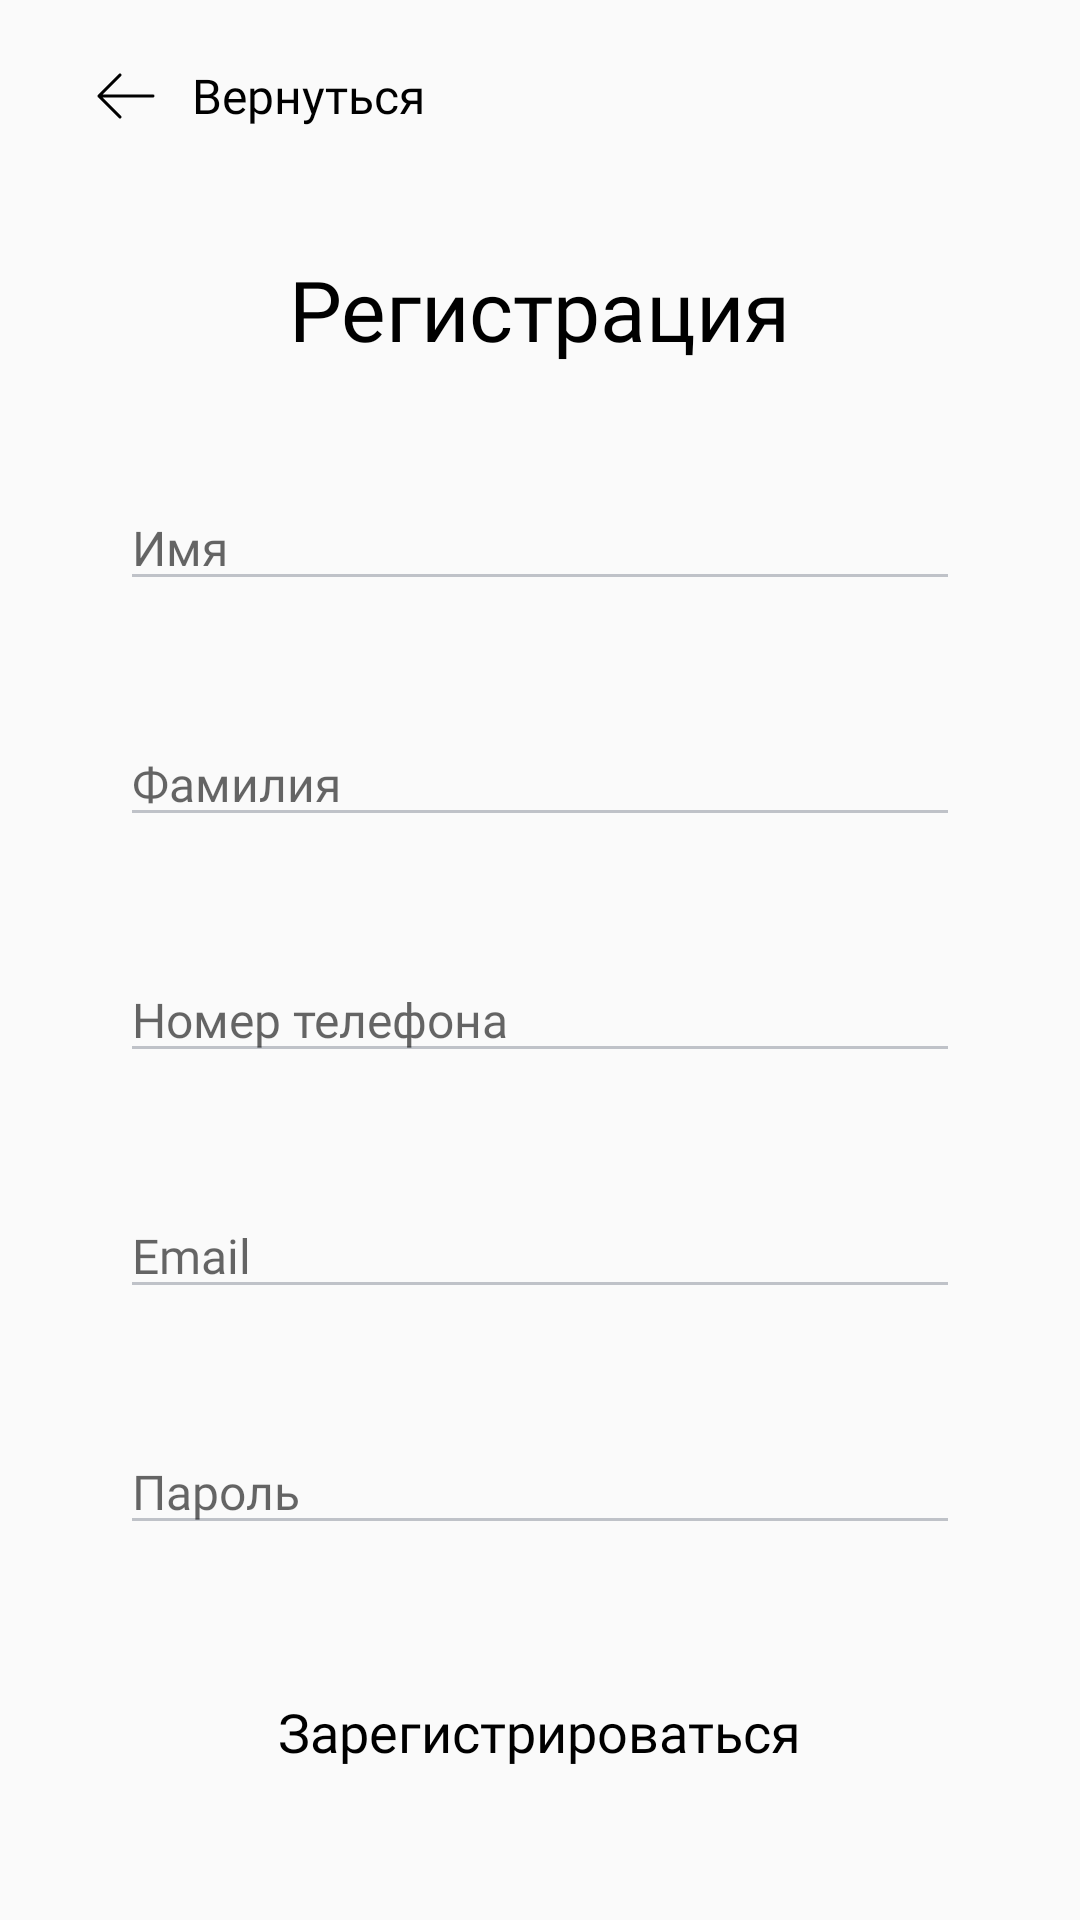

Named icons in this screenshot (1080 × 1920) and their centers, (x,y):
arrow left: (126,96)
